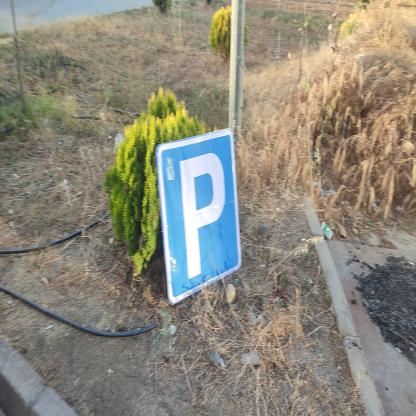Parking-Sign: (155, 127, 245, 313)
